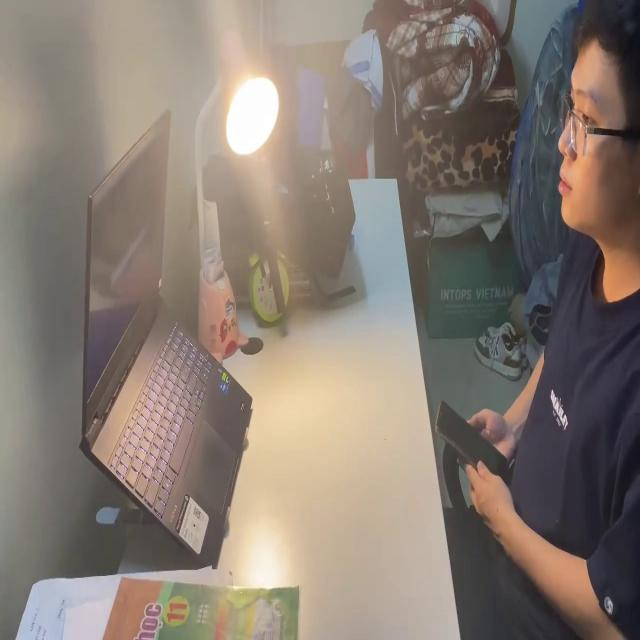book: (12, 572, 300, 640)
laptop: (74, 104, 254, 566)
phone: (434, 390, 510, 498)
student: (440, 0, 640, 640)
